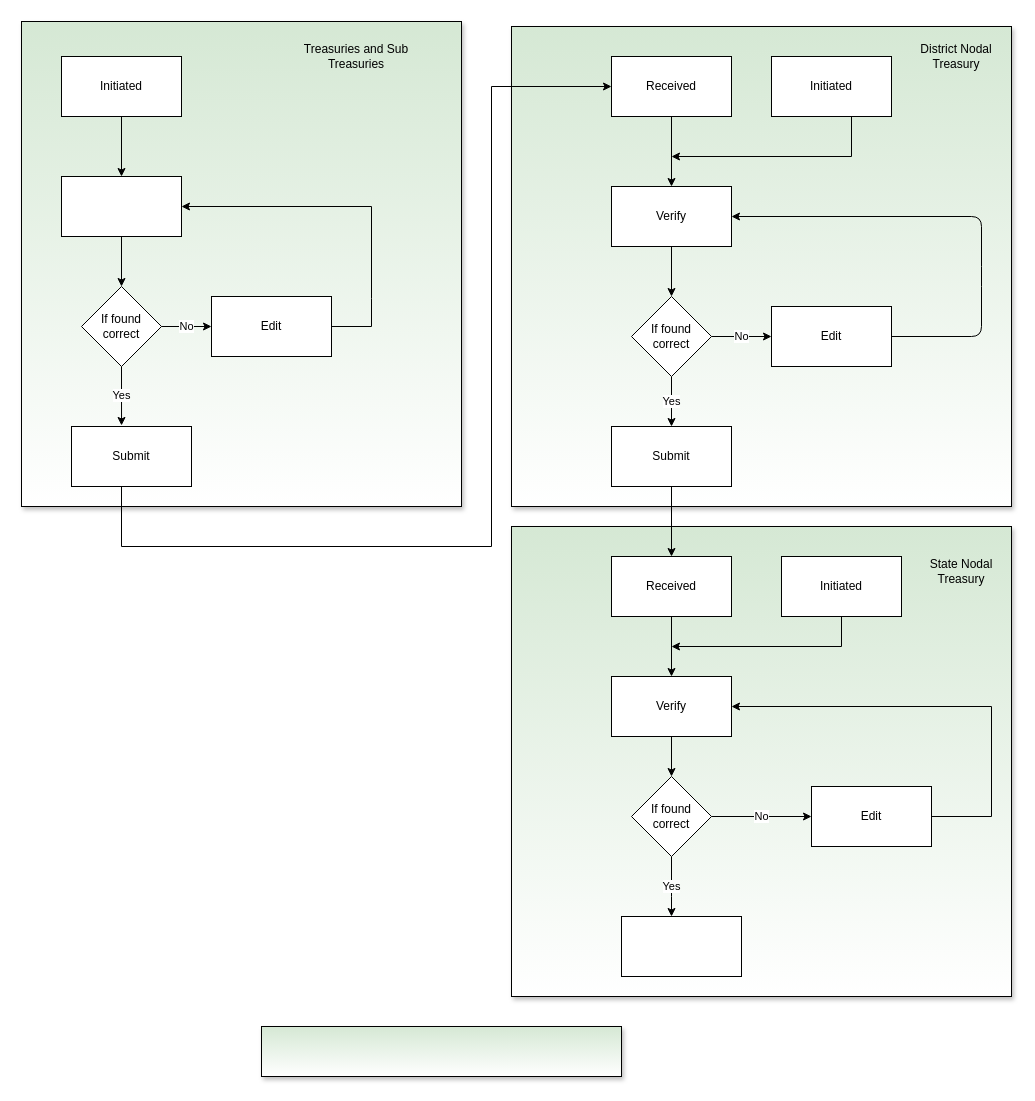
Image size: 1035x1101. Some labels were removed from this diagram. Here are the shapes that lost their labels. From the top down, the centre of each, then its label:
At pixel 121 206: "Save".
At pixel 681 946: "Submit to IGR".
At pixel 442 1053: "Workflow of Indent of Stock".
